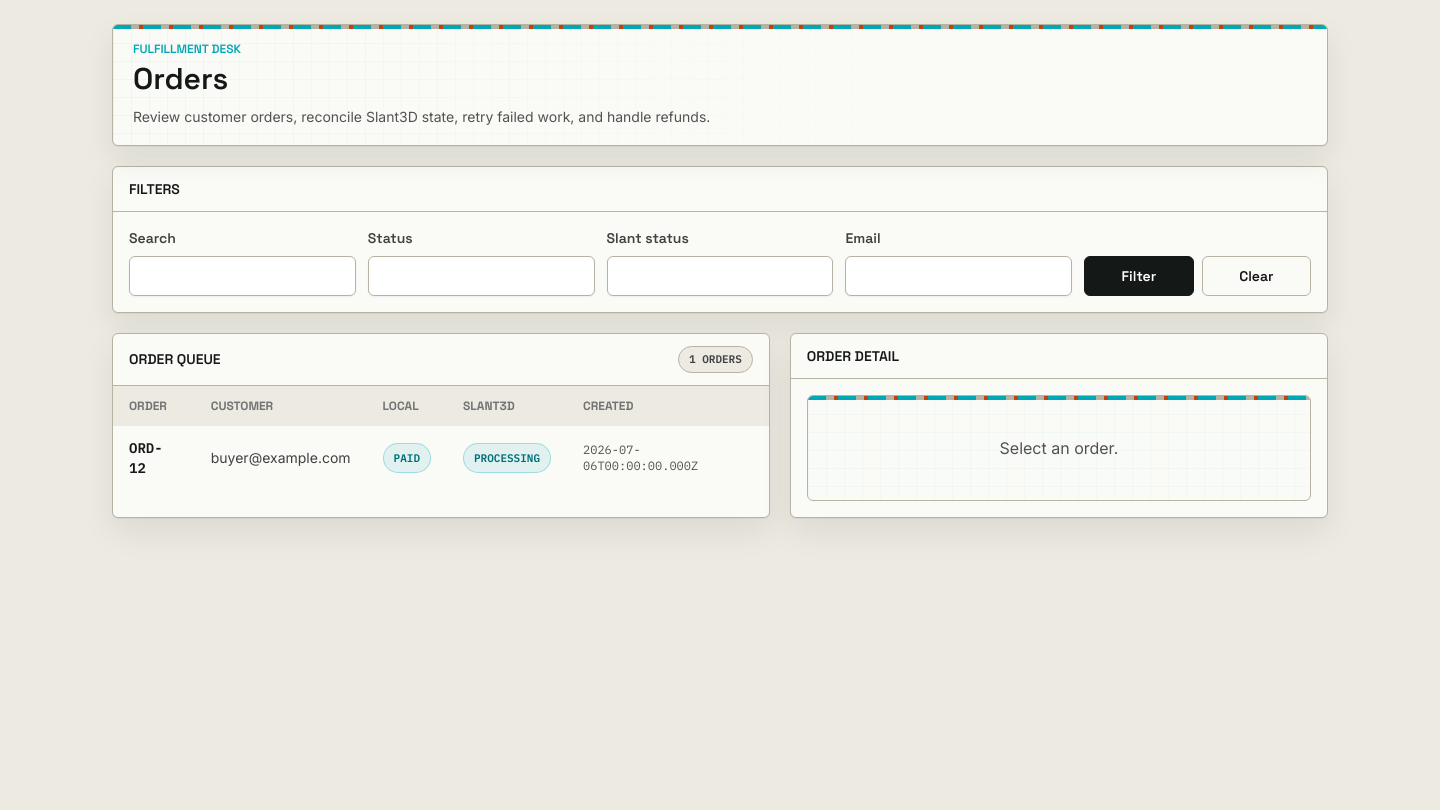
AdminOrdersComponent › loads selected order detail
This screenshot has width=1440, height=810.
Click the row that starts with "ORD-12" at (146,448), box x1=113 y1=426 x2=769 y2=490
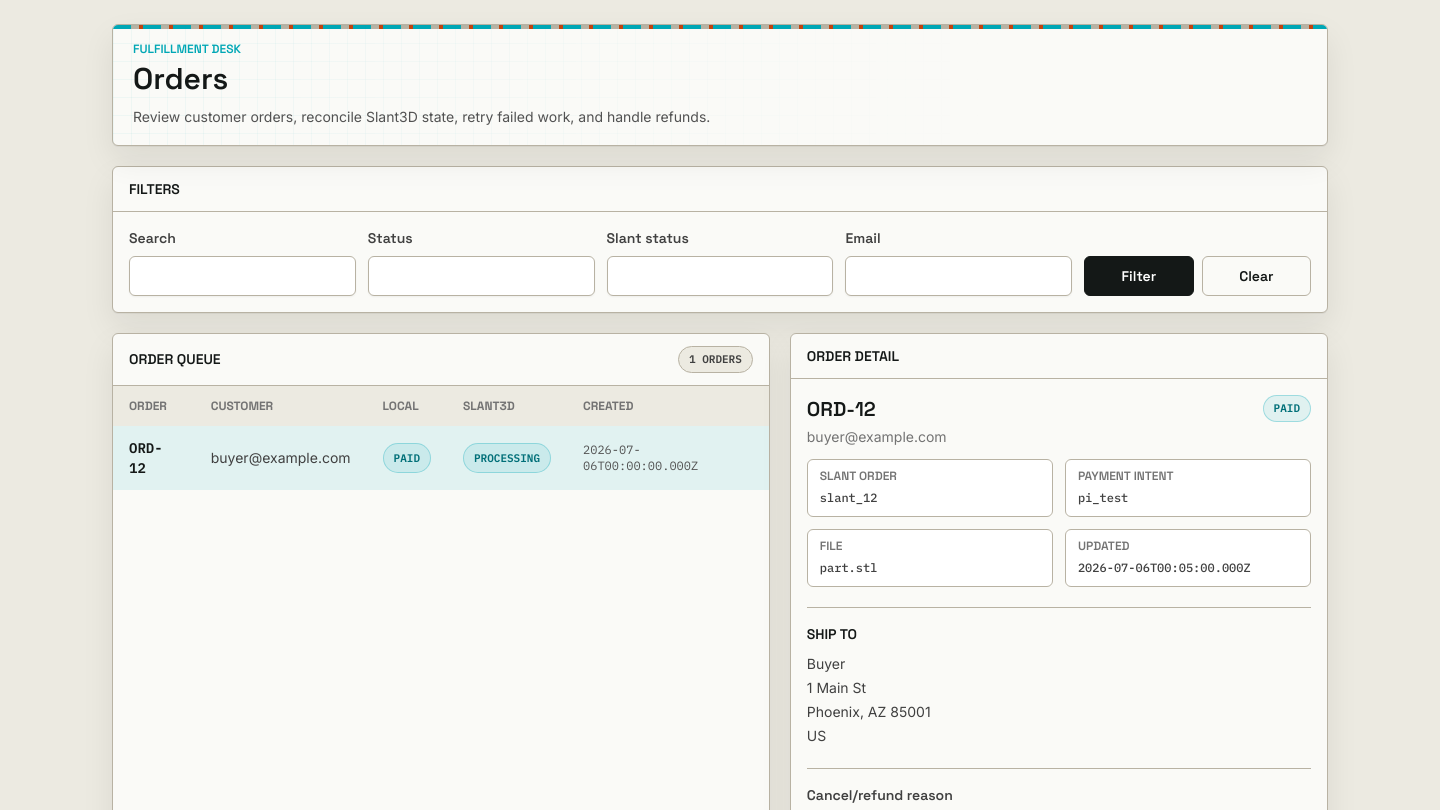
Result: the text "pi_test" is shown at x1=1078 y1=490 x2=1128 y2=505
